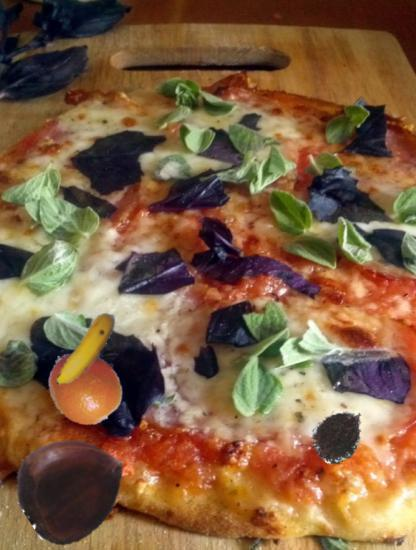Banana: (43, 307, 132, 396)
Chestnut: (17, 430, 128, 541)
Rambutan: (308, 404, 369, 465)
Tangelo: (45, 346, 125, 426)
